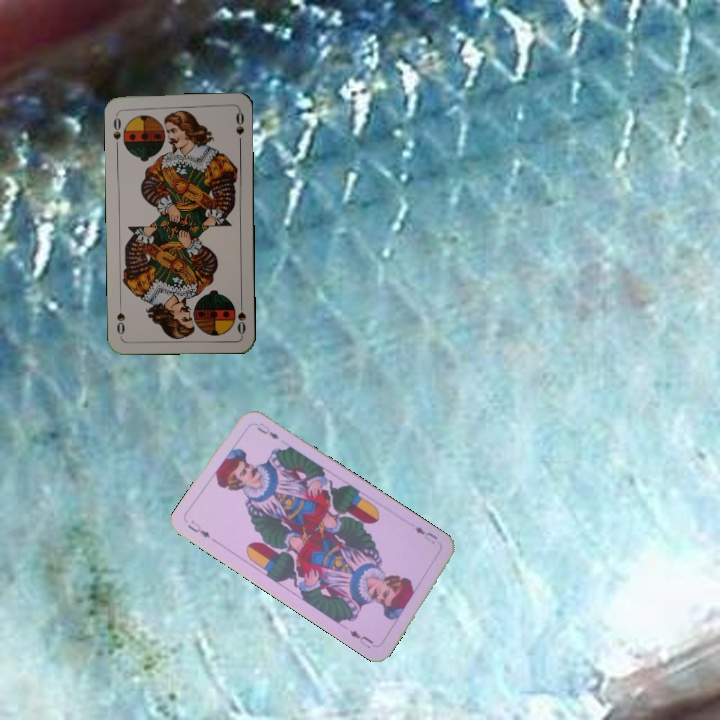EU: (410, 522, 440, 547), (183, 516, 213, 541)
SO: (234, 296, 249, 337), (109, 109, 124, 142)
